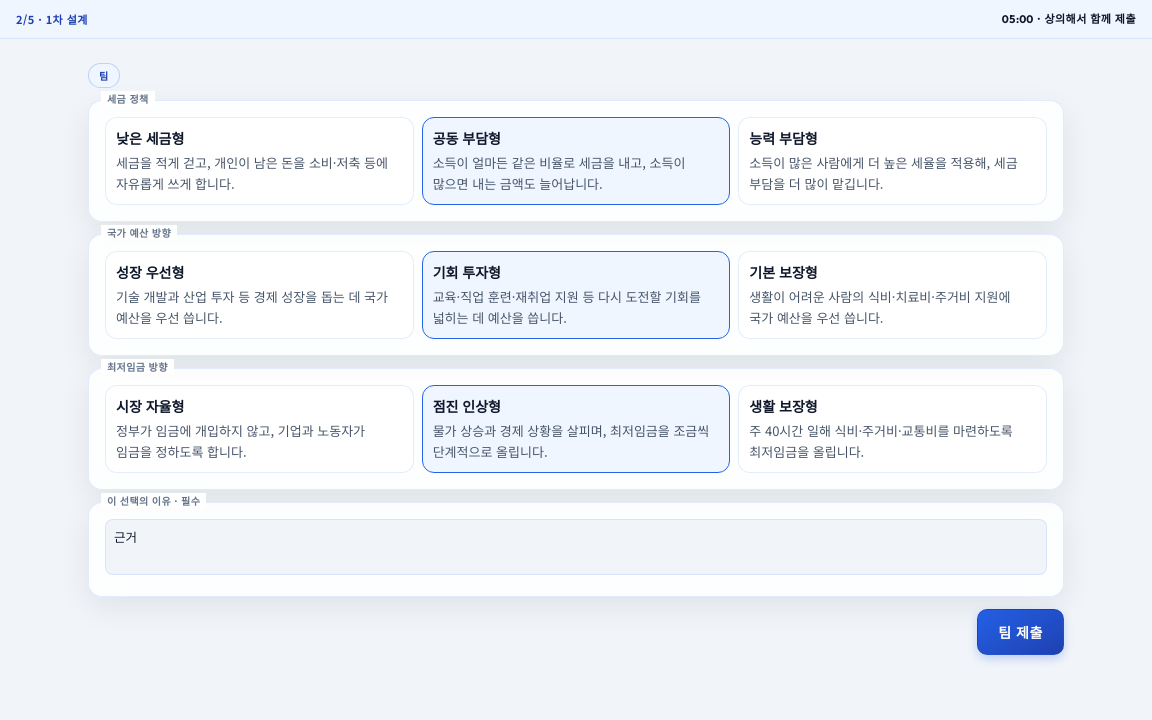
Test: 연결과 저장 회귀 › 제출 저장 실패를 완료로 표시하지 않고 재시도할 수 있다
The image size is (1152, 720).
Click the button "팀 제출": (1021, 632) [977,609,1064,655]
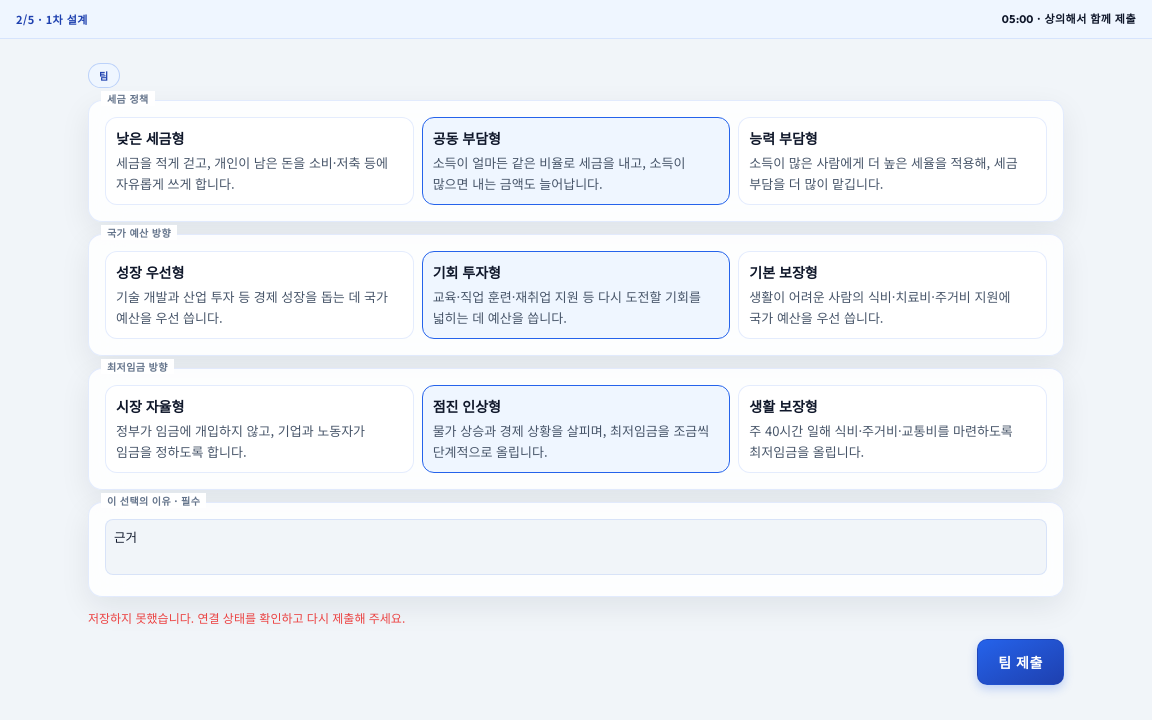
Check: the text "제출 완료!" is not shown
Check: the message "저장하지 못했습니다. 연결 상태를 확인하고 다시 제출해 주세요." is shown, box [88,609,405,626]
Click the button "팀 제출": (1021, 662) [977,639,1064,685]
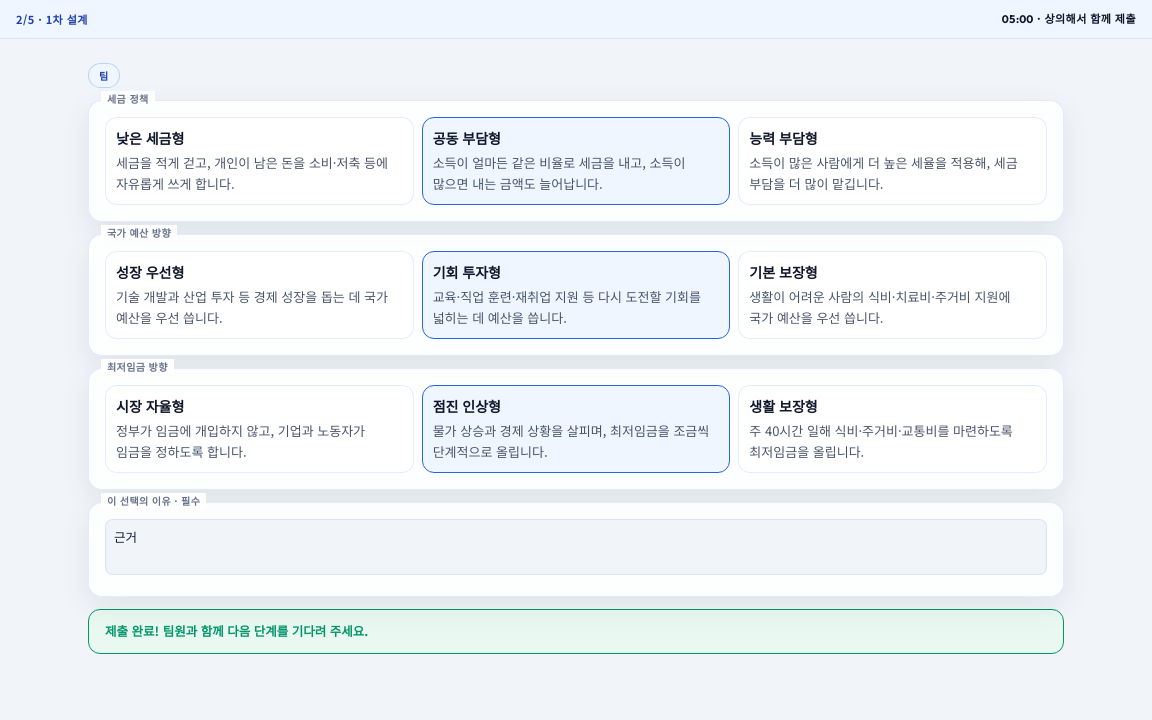
Check: the text "제출 완료! 팀원과 함께 다음 단계를 기다려 주세요." is shown, box [105,622,368,641]
